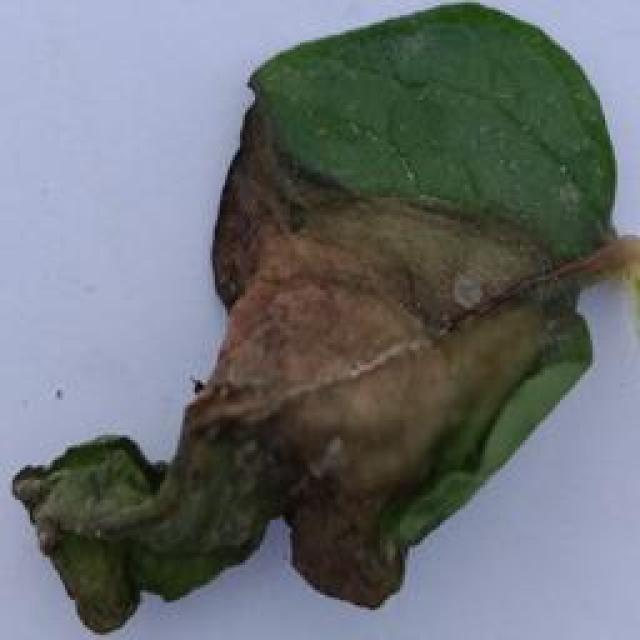Potato_Late_Blight: (16, 6, 628, 632)
